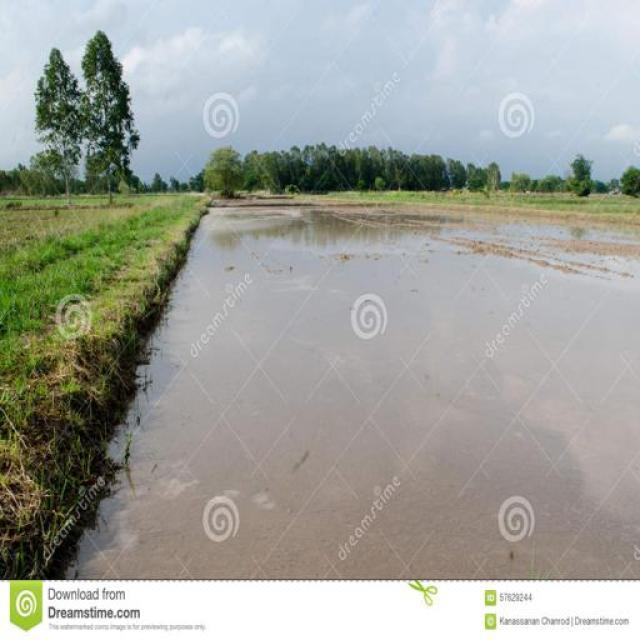puddle: (218, 229, 613, 450), (137, 405, 633, 580)
